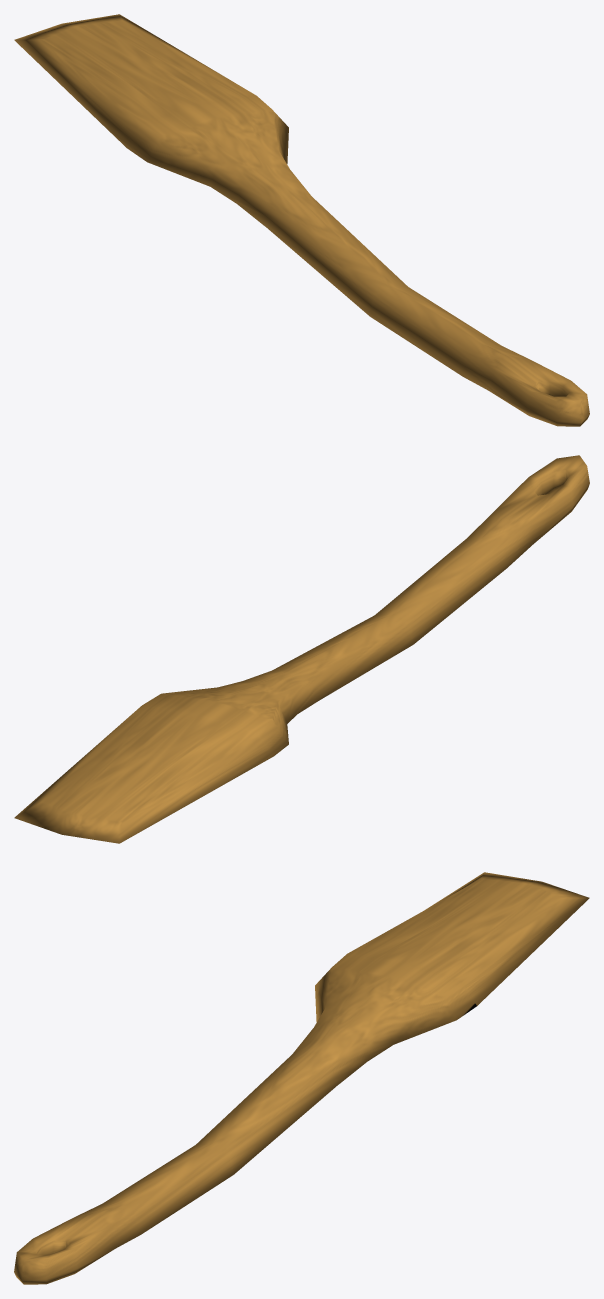
The model's file is ustensils2.glb.
The picture shows the model from 3 angles, top to bottom: view 1: azimuth 30°, elevation 25°; view 2: azimuth 150°, elevation 25°; view 3: azimuth 330°, elevation 25°; orthographic projection.
Parts seen in each view (by area): view 1: ustensils2; view 2: ustensils2; view 3: ustensils2.
Boxes of the visible parts, x1,y1,x2,y2 form: ustensils2: (14,14,589,426); ustensils2: (14,455,589,843); ustensils2: (14,872,589,1284).
Size of the model in its own units: 0.4335 by 0.2154 by 2.65.
1 material, 1 textured.
